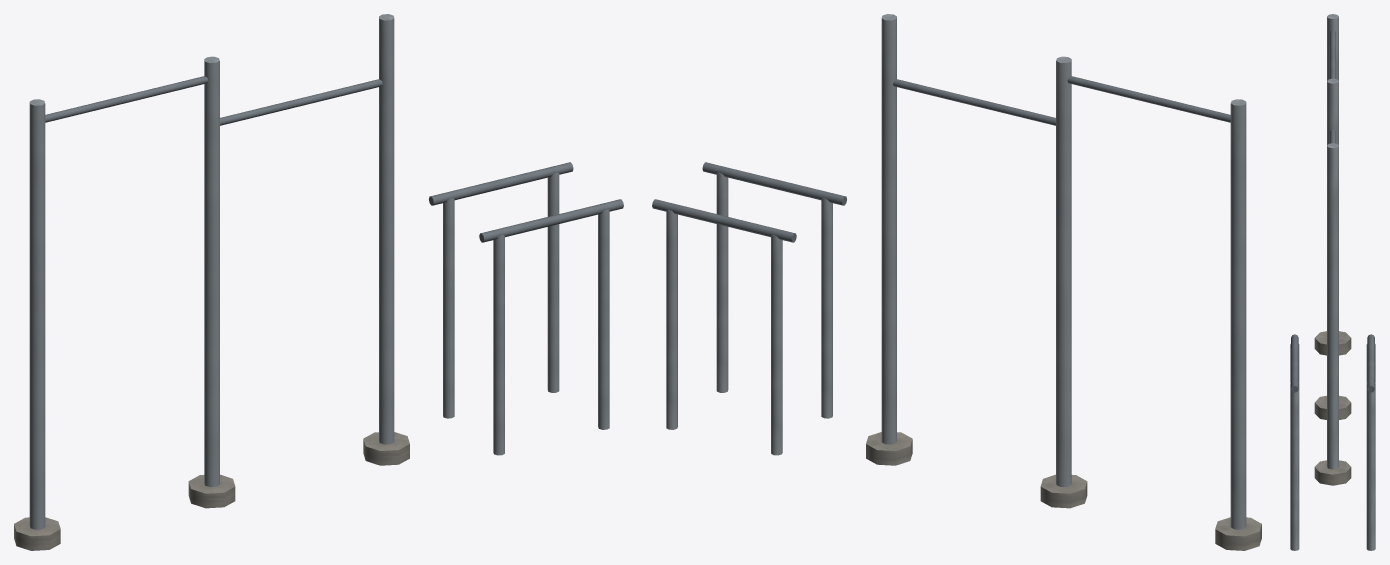
Rendered from pullup_bars.fbx.
3 views of the same model, side by side, from view 1: azimuth 30°, elevation 25°; view 2: azimuth 150°, elevation 25°; view 3: azimuth 270°, elevation 25° (orthographic). The views are drawn at different scales.
Parts seen in each view (by area): view 1: pullup_bars_dip, pullup_bars, pullup_bars_post2, pullup_bars_post3, pullup_bars_bars; view 2: pullup_bars_dip, pullup_bars, pullup_bars_post2, pullup_bars_post3, pullup_bars_bars; view 3: pullup_bars_post3, pullup_bars_dip, pullup_bars_post2, pullup_bars, pullup_bars_bars.
Part boxes in pixels (x1,y1,x2,y2): pullup_bars_dip: [429, 162, 623, 455]; pullup_bars: [14, 99, 60, 550]; pullup_bars_post2: [188, 56, 235, 508]; pullup_bars_post3: [363, 14, 409, 465]; pullup_bars_bars: [45, 76, 382, 125]; pullup_bars_dip: [652, 162, 846, 455]; pullup_bars: [1215, 99, 1261, 550]; pullup_bars_post2: [1040, 56, 1087, 508]; pullup_bars_post3: [866, 14, 912, 465]; pullup_bars_bars: [893, 76, 1230, 125]; pullup_bars_post3: [1314, 143, 1351, 485]; pullup_bars_dip: [1290, 334, 1375, 550]; pullup_bars_post2: [1314, 78, 1351, 419]; pullup_bars: [1314, 14, 1351, 355]; pullup_bars_bars: [1330, 30, 1335, 143].
Bounding box in the file's own units: 3.32 × 2.4 × 0.56.
Materials: 1 (1 with a texture image).
